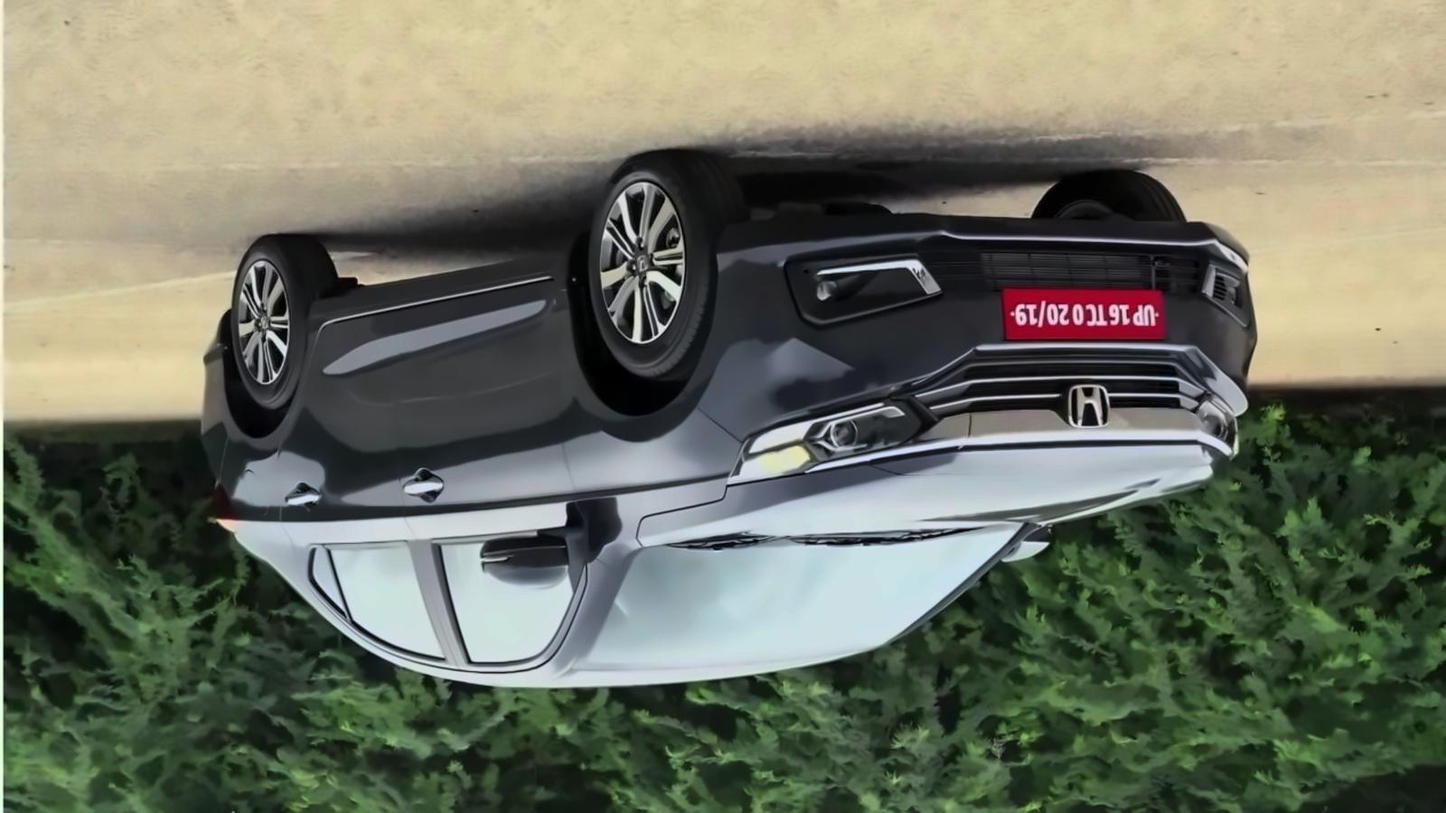Car hood: (636, 440, 1229, 545)
Fender - -F-L-: (551, 253, 742, 572)
Fender - -R-L-: (204, 300, 316, 587)
Front bumper: (683, 205, 1261, 445)
Headlight - -L-: (723, 386, 943, 491)
Passenger-s door - -F-L-: (390, 227, 608, 695)
Passenger-s door - -R-L-: (269, 266, 471, 699)
Side bumper - -L-: (300, 227, 584, 373)
Side mirror - -L-: (474, 523, 590, 593)
